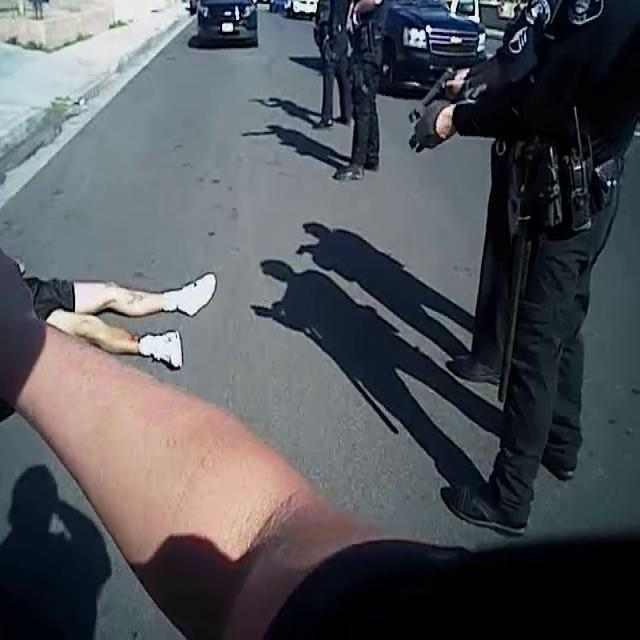gun: (401, 50, 458, 116)
